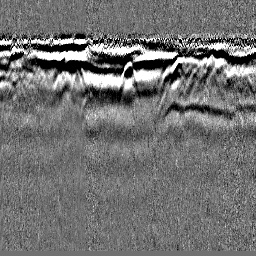cavity: (117, 57, 139, 106)
